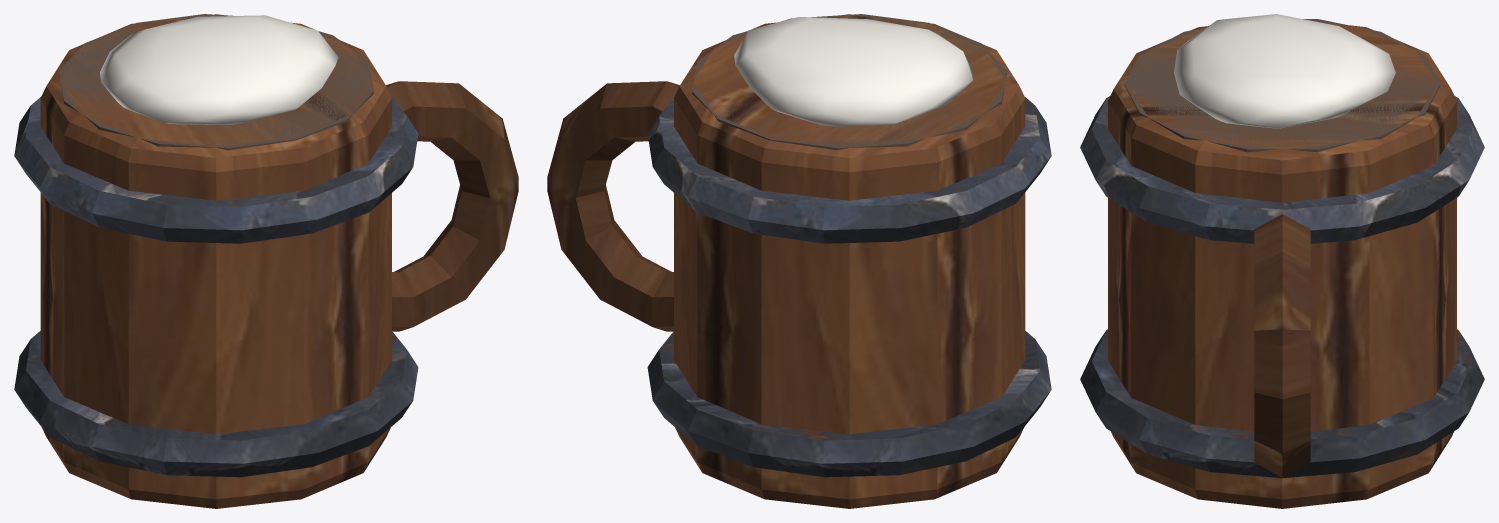
The model's file is drink_deep_stout.glb.
The picture shows the model from 3 angles, left to right: view 1: azimuth 30°, elevation 25°; view 2: azimuth 150°, elevation 25°; view 3: azimuth 270°, elevation 25°; orthographic projection.
Visible parts, largest first — view 1: model; view 2: model; view 3: model.
Part boxes in pixels (box(x1,y1,x2,y2)): model: box(14, 14, 518, 508); model: box(547, 14, 1051, 508); model: box(1080, 14, 1484, 508).
Bounding box in the file's own units: 0.236 × 0.1893 × 0.174.
Materials: 6 (4 with a texture image).
